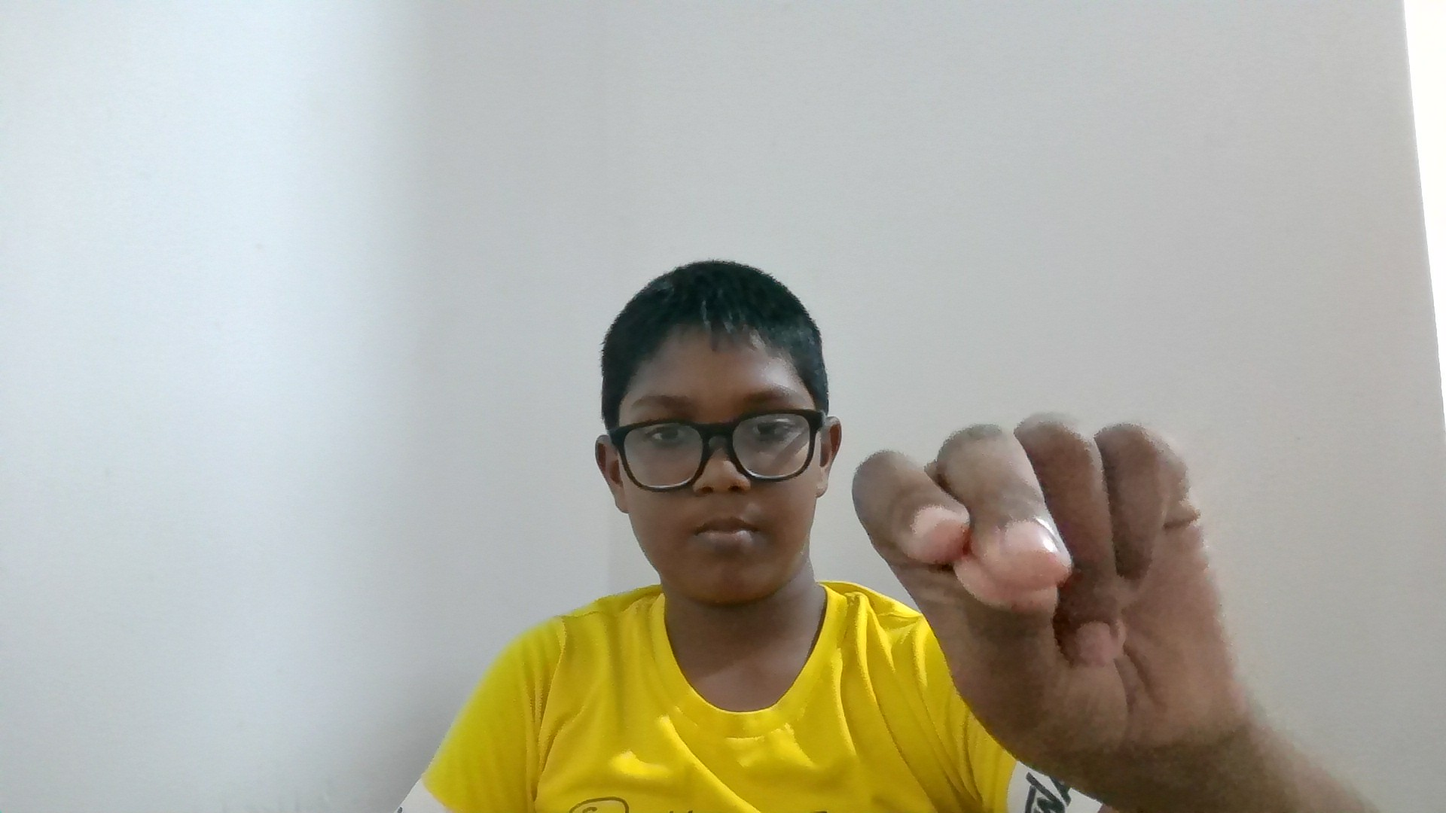No: (860, 341, 1347, 768)
